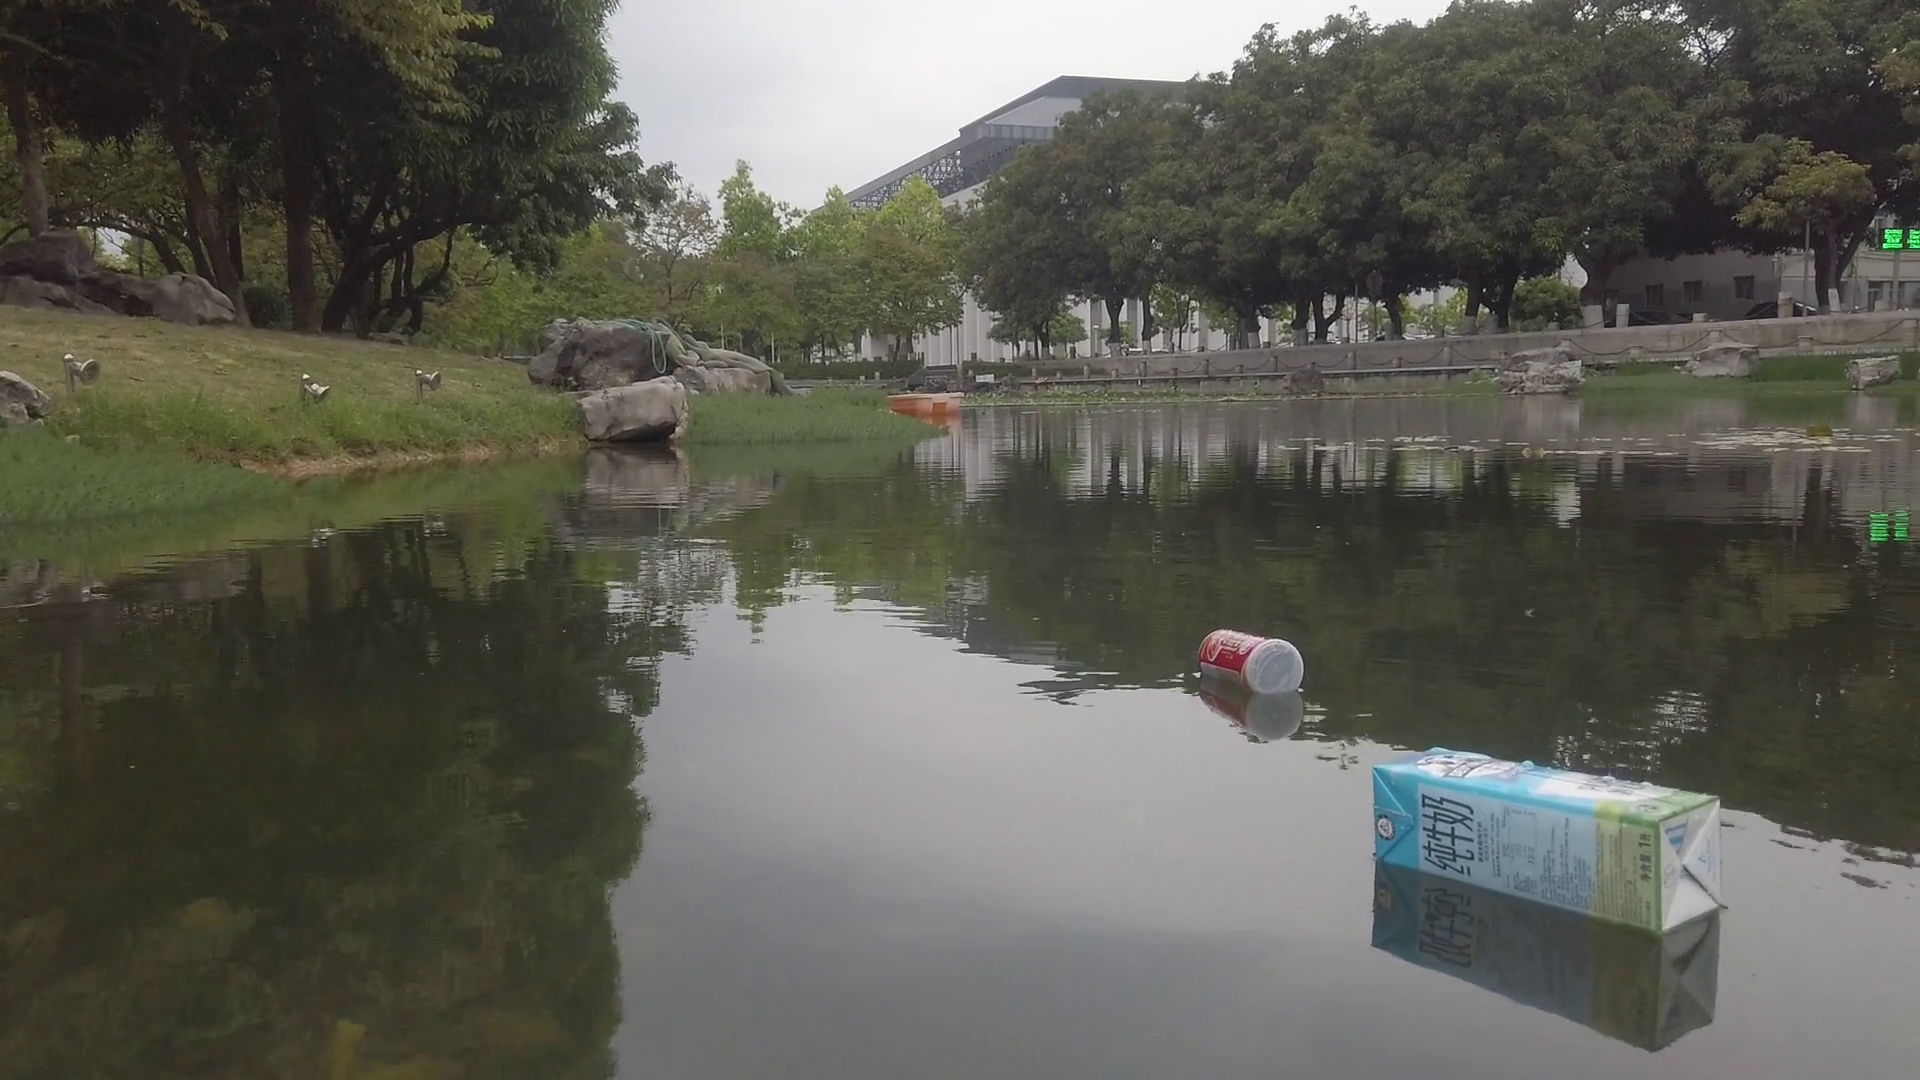bottle: (1200, 617, 1305, 699)
carton: (1371, 738, 1733, 945)
